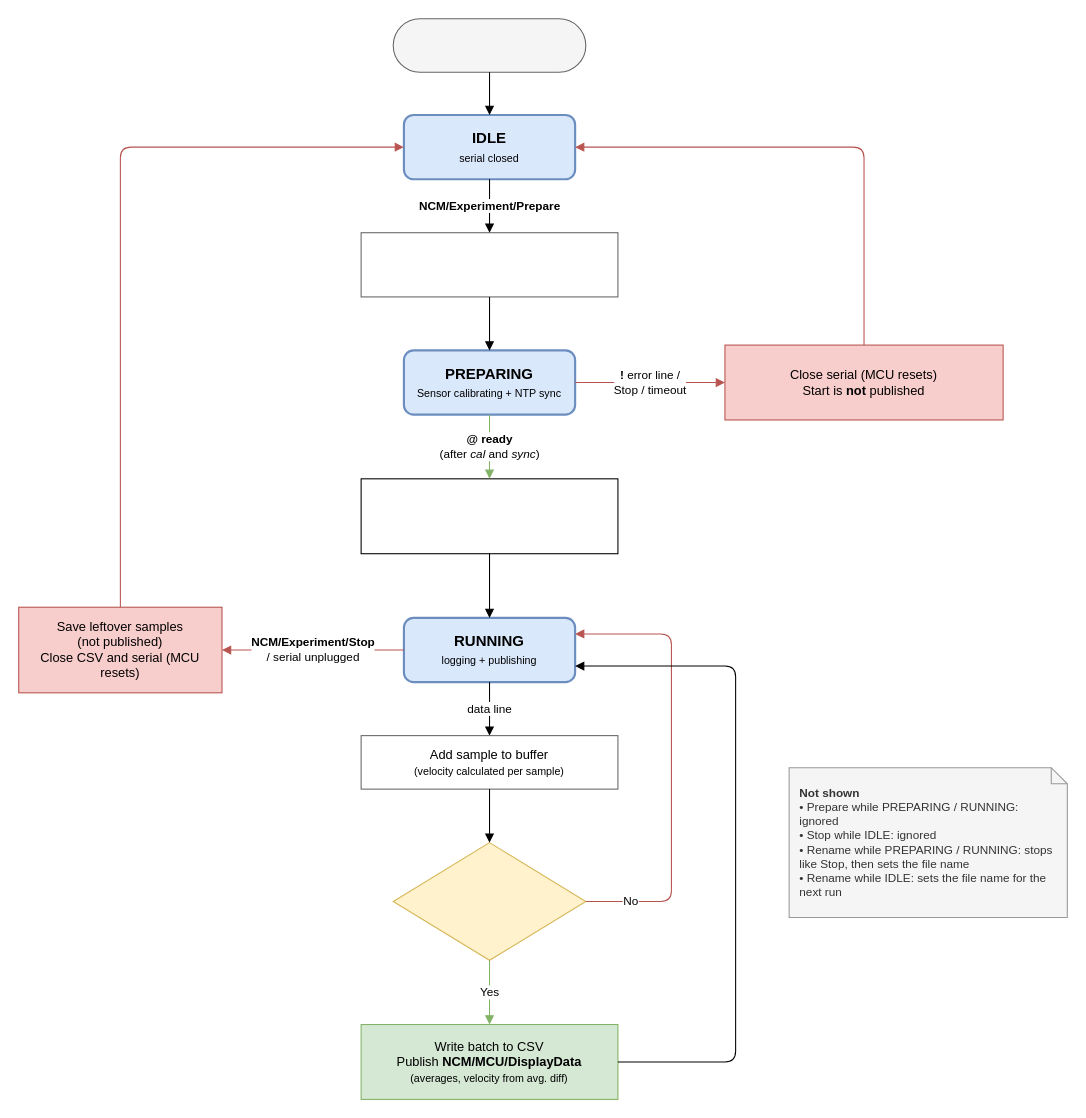
The diagram is 1086 pixels wide and 1118 high, and some of its shapes have lost their labels. The centre of each missing label's shape, as x and y in pixels:
batch_size samples buffered?: point 489,901
Bridge launched (start_ncm.sh): point 489,45
Create CSV file Publish NCM/Experiment/Start (DAQ starts recording): point 489,516
Open serial port (MCU leaves setup() wait): point 489,264
